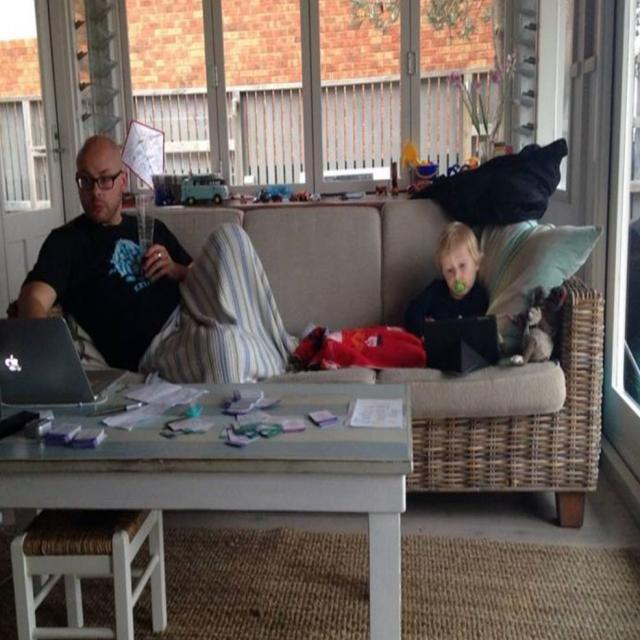Glasses: (74, 167, 124, 195)
